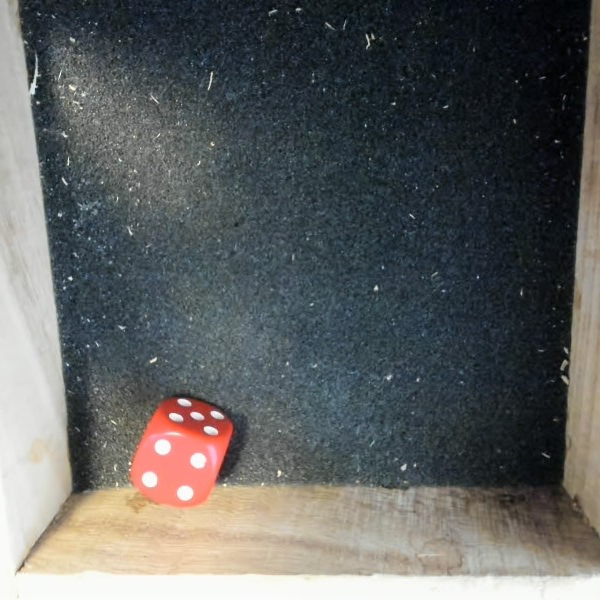red_die_pip4: (118, 384, 245, 523)
